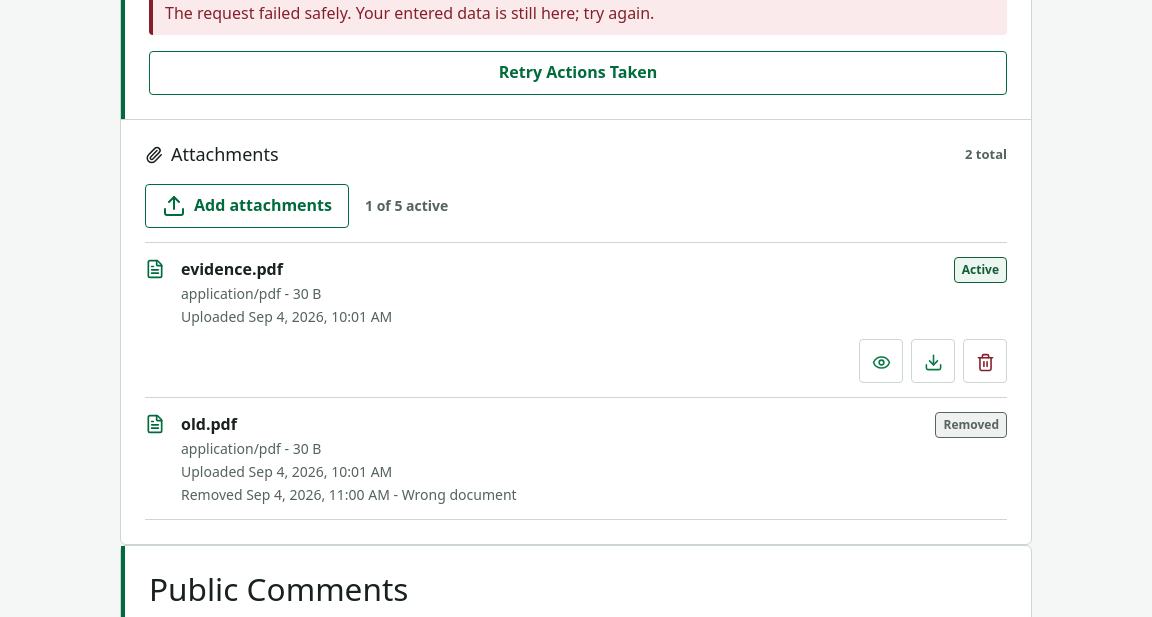
Test: Ticket Detail attachment section › closes the placeholder window when protected preview loading fails
(page scrolled)
Click the button named "Preview evidence.pdf".
click(881, 360)  # box [859,338,903,382]
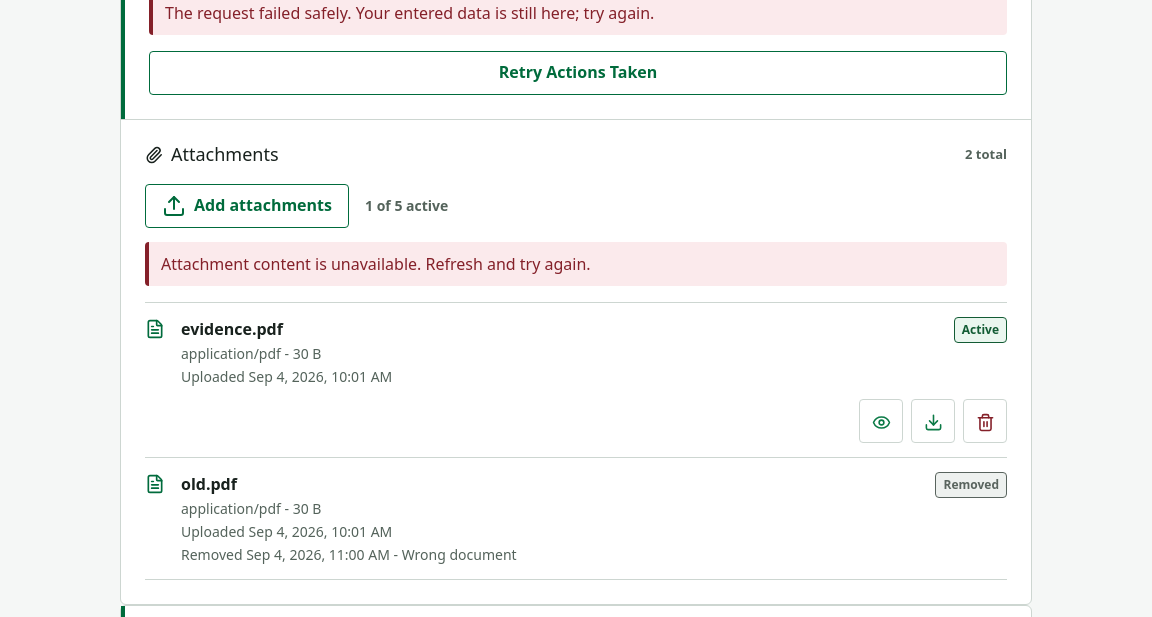
Expected: the message "Attachment content is unavailable. Refresh and try again." is shown, [145,242,1007,286]
